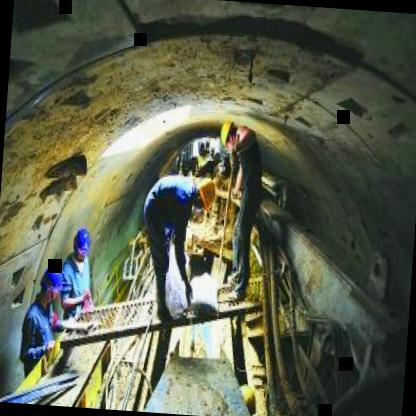helmet: (36, 264, 66, 314), (67, 222, 94, 266), (188, 175, 218, 212), (218, 118, 243, 152)
